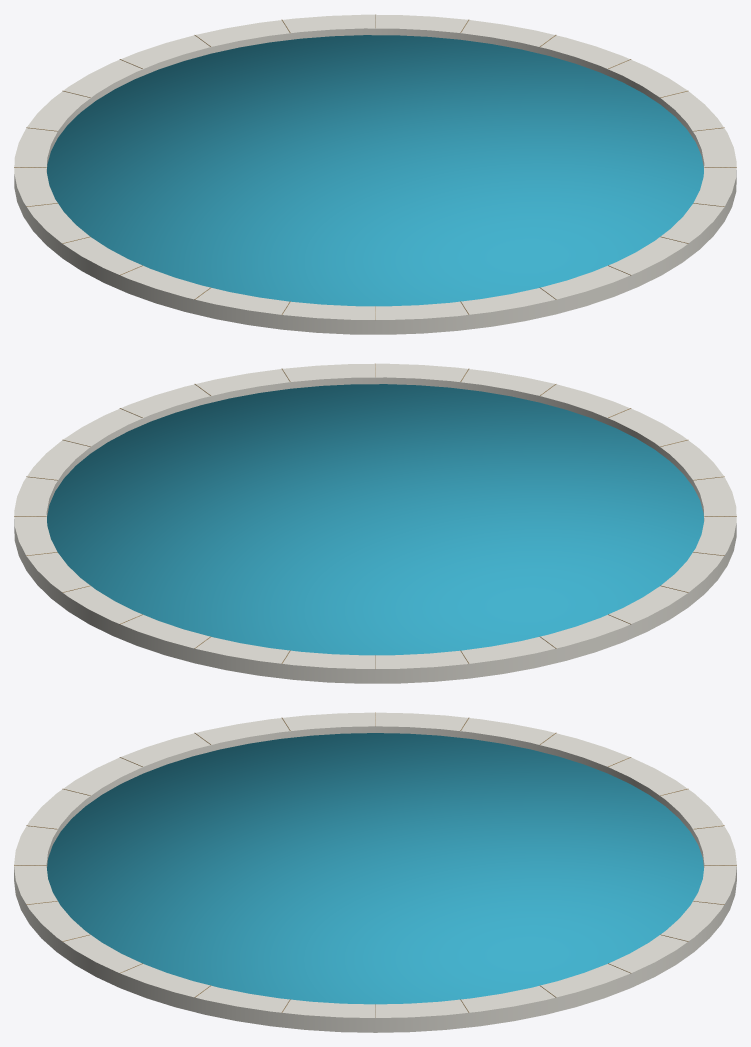
The model's file is piscina_enterrada_redonda_base.glb.
3 views of the same model, one above another, from view 1: azimuth 30°, elevation 25°; view 2: azimuth 150°, elevation 25°; view 3: azimuth 270°, elevation 25° (orthographic).
Parts seen in each view (by area): view 1: piscina_enterrada_redonda_base; view 2: piscina_enterrada_redonda_base; view 3: piscina_enterrada_redonda_base.
Part boxes in pixels (bbox=[...]): piscina_enterrada_redonda_base: bbox=[14, 14, 736, 334]; piscina_enterrada_redonda_base: bbox=[14, 363, 736, 683]; piscina_enterrada_redonda_base: bbox=[14, 712, 736, 1032].
Size of the model in its own units: 4 by 0.0928 by 4.
Materials: 3 (1 with a texture image).
